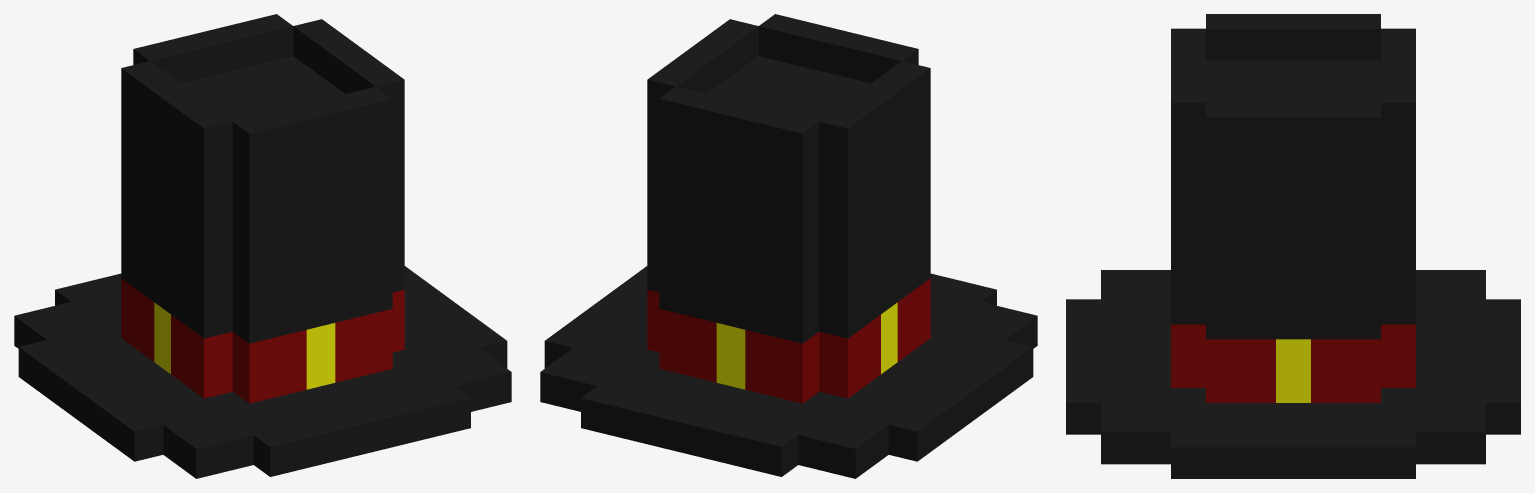
File: hat.obj
3 views of the same model, side by side, from view 1: azimuth 30°, elevation 25°; view 2: azimuth 150°, elevation 25°; view 3: azimuth 270°, elevation 25° (orthographic). The views are drawn at different scales.
Size of the model in its own units: 1.3 by 1 by 1.3.
Materials: 1 (1 with a texture image).
